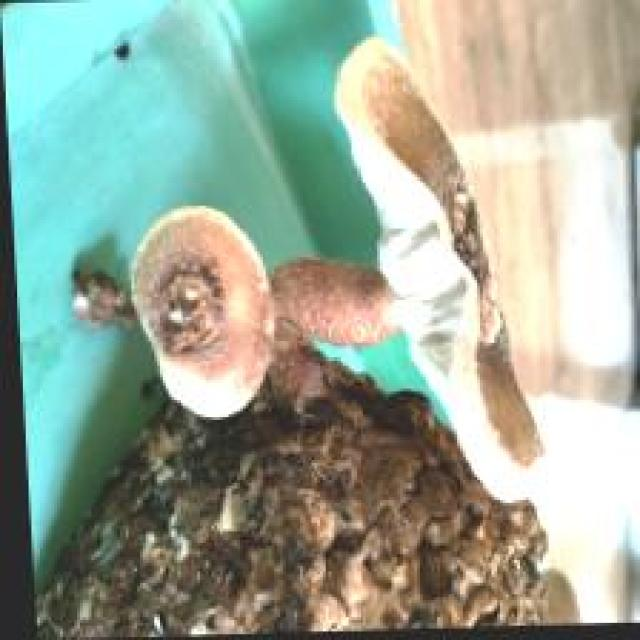death-cap: (126, 203, 274, 420)
